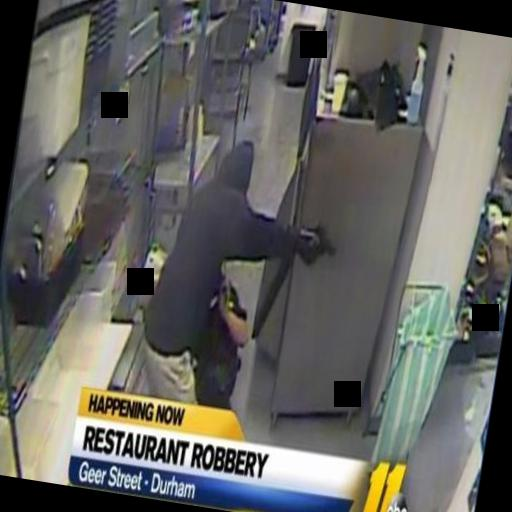Handgun: (295, 210, 340, 284)
